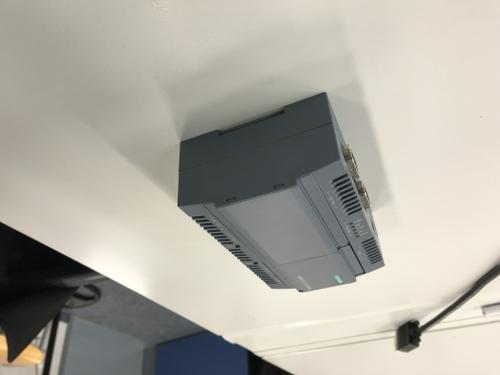device: (177, 92, 385, 293)
